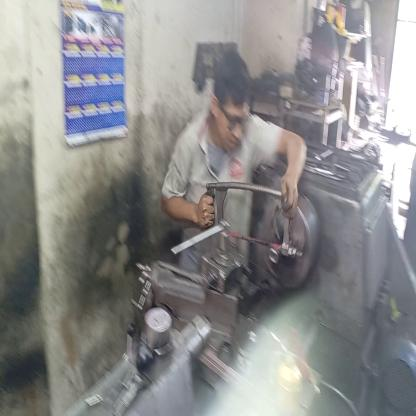lentes: (217, 98, 248, 134)
